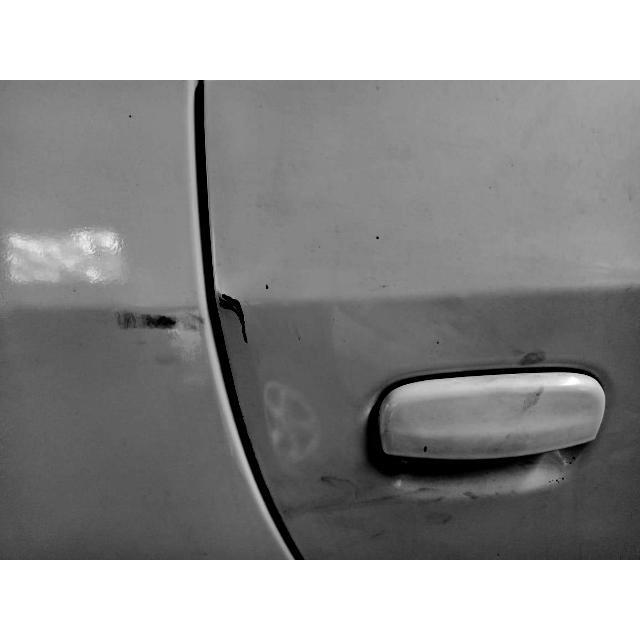doorouter-dent: (203, 84, 639, 560)
